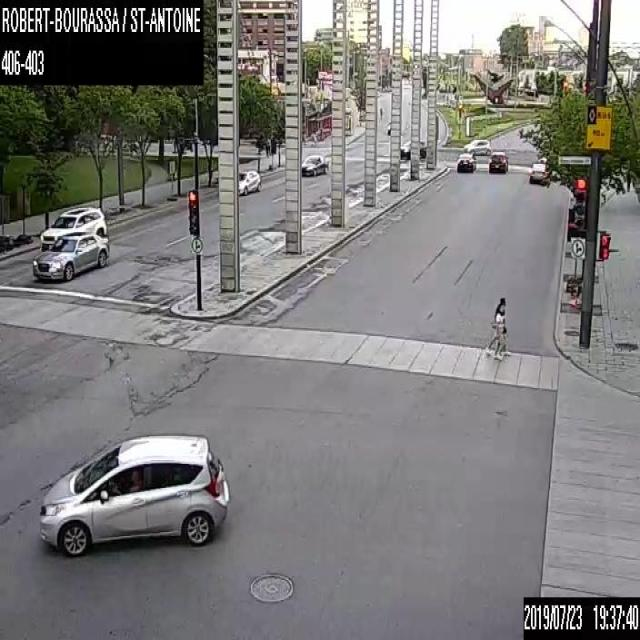pedestrian: (484, 297, 505, 352), (495, 302, 510, 359)
vehicle: (38, 431, 228, 556), (31, 228, 109, 280), (40, 203, 106, 251), (235, 168, 261, 195), (300, 153, 328, 176), (398, 139, 426, 159), (463, 138, 491, 154), (488, 151, 508, 173), (456, 152, 476, 173), (529, 162, 547, 184), (384, 121, 390, 134)
